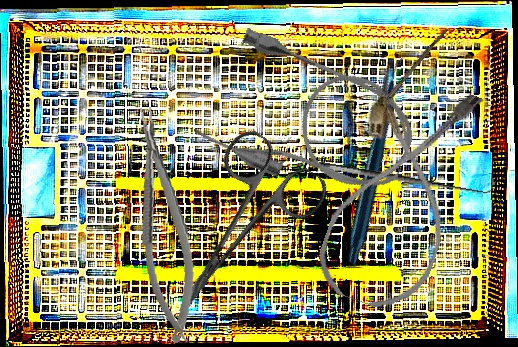Cannula: (189, 23, 429, 219), (308, 64, 490, 321)
Handpiece: (270, 53, 490, 267)
Hook Surgical: (317, 147, 497, 202)
Iris Scissors: (137, 123, 334, 336)
Needle Holder: (128, 104, 202, 347)
Surgical Spoon: (365, 25, 449, 127)
